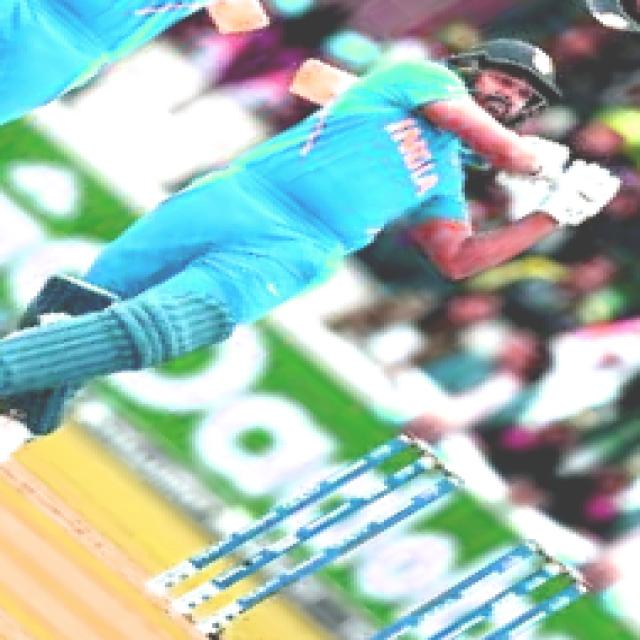toe: (278, 60, 332, 100)
